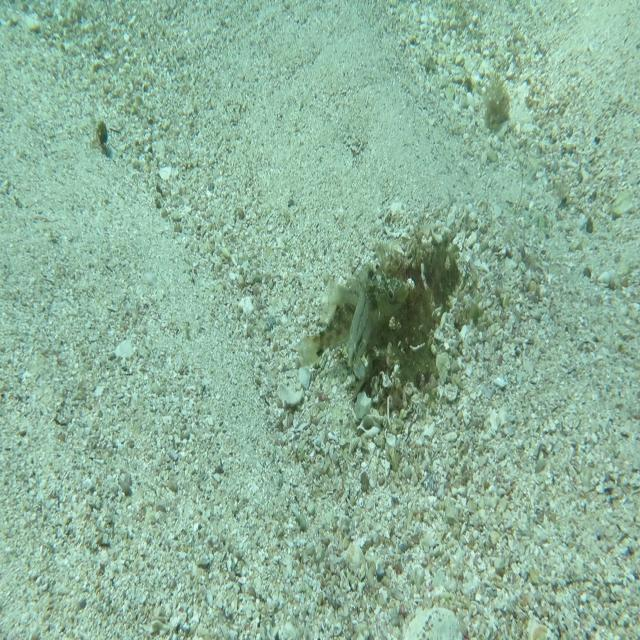LF: (293, 258, 412, 370)
female: (321, 271, 373, 369)
nest: (352, 228, 466, 418)
